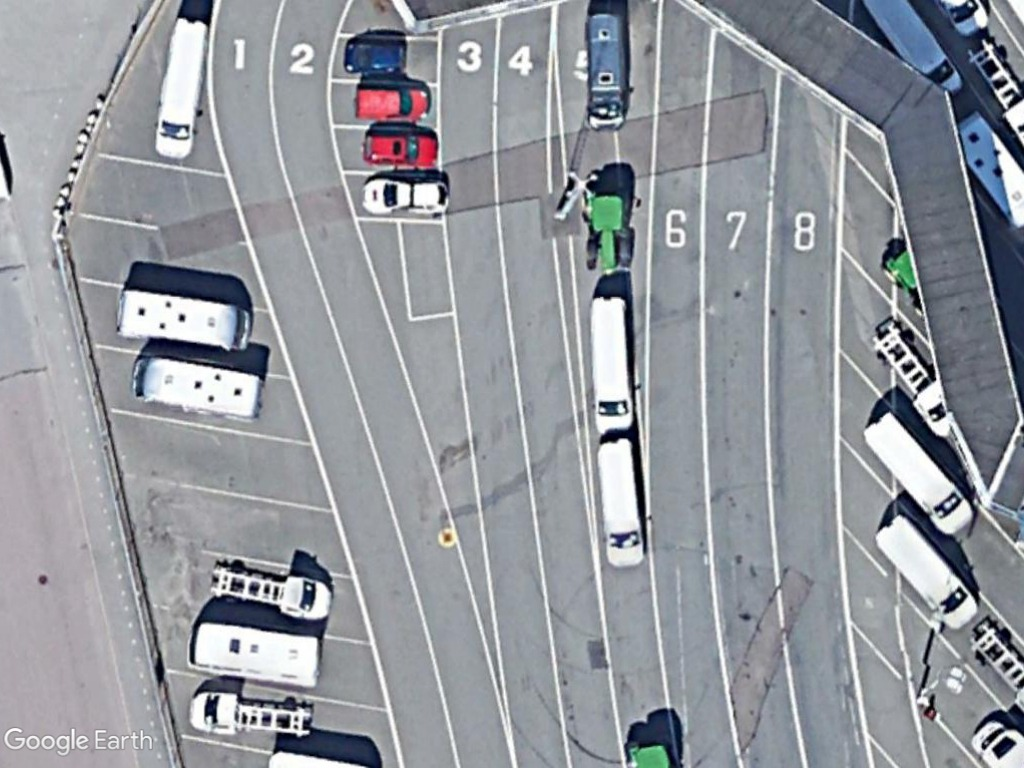car: (354, 167, 456, 222), (349, 78, 435, 128), (354, 123, 446, 169), (332, 32, 417, 80)
van: (859, 404, 982, 541), (869, 508, 983, 631), (113, 279, 265, 359), (183, 617, 332, 696), (126, 351, 276, 429), (147, 10, 216, 167), (583, 280, 646, 442), (592, 429, 651, 568), (576, 5, 638, 133)
